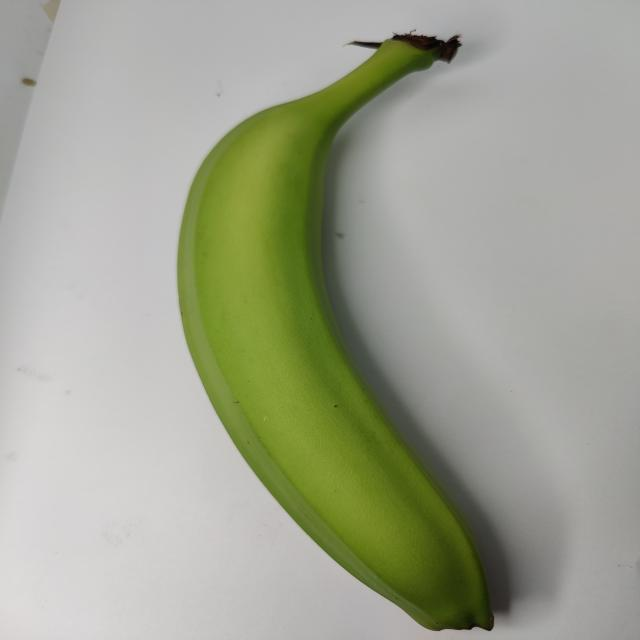raw: (98, 4, 590, 639)
